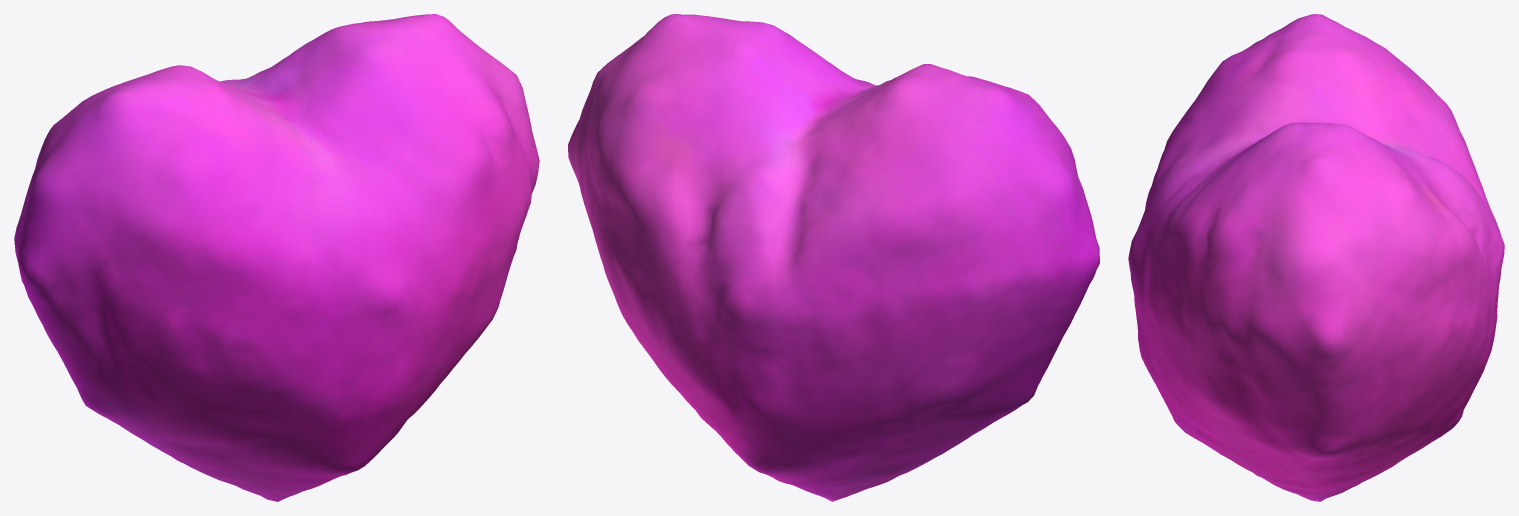
Rendered from pinkheart.fbx.
The picture shows the model from 3 angles, left to right: view 1: azimuth 30°, elevation 25°; view 2: azimuth 150°, elevation 25°; view 3: azimuth 270°, elevation 25°; orthographic projection. The views are drawn at different scales.
Visible parts, largest first — view 1: Mesh1; view 2: Mesh1; view 3: Mesh1.
Boxes of the visible parts, bbox=[...] form: Mesh1: bbox=[14, 14, 539, 501]; Mesh1: bbox=[568, 14, 1099, 501]; Mesh1: bbox=[1128, 14, 1504, 501].
Bounding box in the file's own units: 120 × 99.78 × 81.64.
1 material, 1 textured.
